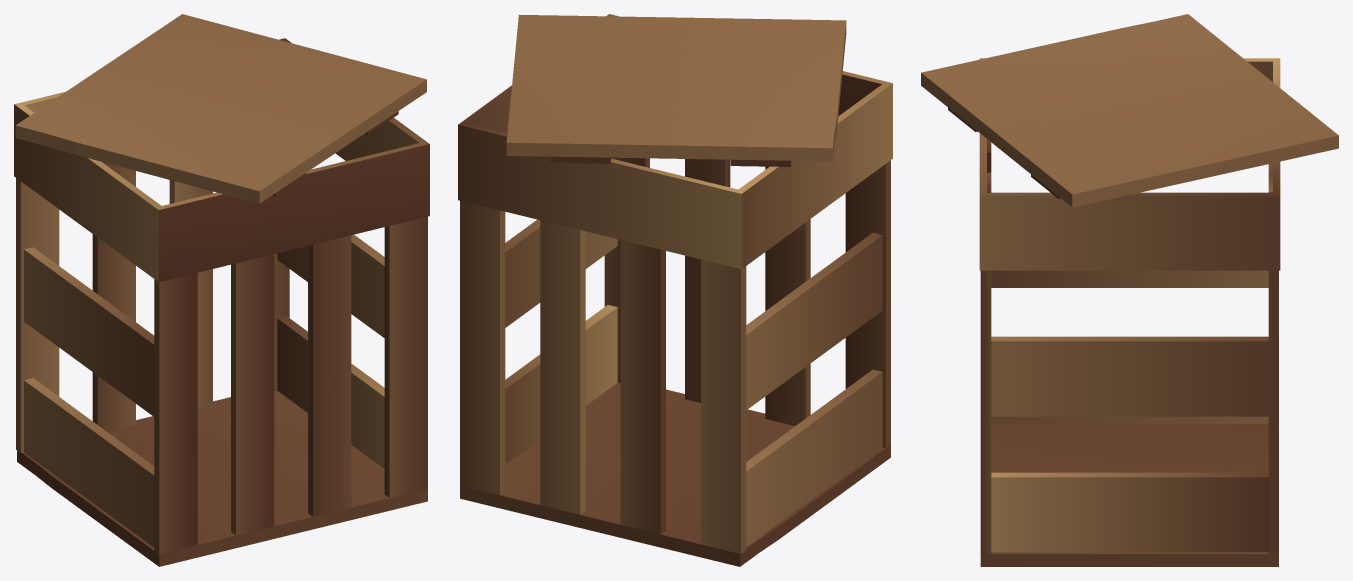
Rendered from Tall Light Crate Open Lid.fbx.
3 views of the same model, side by side, from view 1: azimuth 30°, elevation 25°; view 2: azimuth 150°, elevation 25°; view 3: azimuth 270°, elevation 25° (orthographic). The views are drawn at different scales.
Visible parts, largest first — view 1: Tall Light Crate Open Lid; view 2: Tall Light Crate Open Lid; view 3: Tall Light Crate Open Lid.
Boxes of the visible parts, <box> form: Tall Light Crate Open Lid: <box>14,14,429,566</box>; Tall Light Crate Open Lid: <box>458,14,892,566</box>; Tall Light Crate Open Lid: <box>921,14,1338,566</box>.
Size of the model in its own units: 301 by 289 by 296.
Materials: 1 (1 with a texture image).
